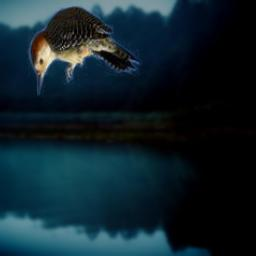Woodpecker: (20, 5, 143, 97)
